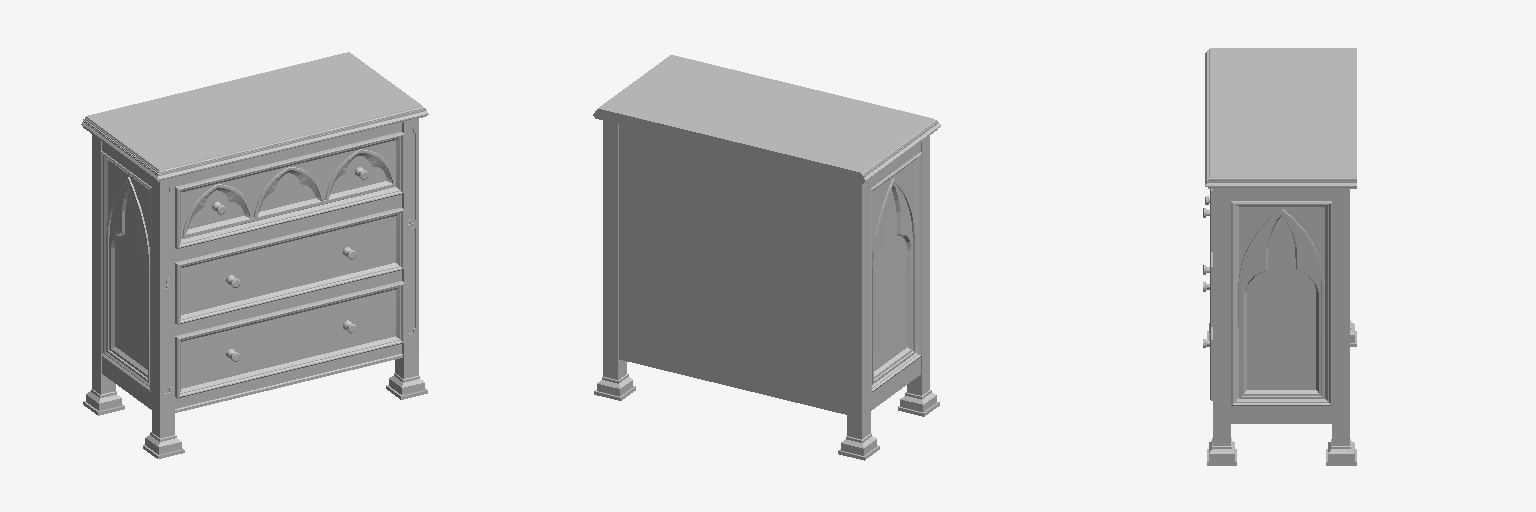
Rendered from GothicCommode_01.obj.
3 views of the same model, side by side, from view 1: azimuth 30°, elevation 25°; view 2: azimuth 150°, elevation 25°; view 3: azimuth 270°, elevation 25° (orthographic).
Parts seen in each view (by area): view 1: GothicCommode_01_Circle.003, gotchi_commode_box3_Circle.005, gotchi_commode_box2_Circle.006, gotchi_commode_box1_Circle.007; view 2: GothicCommode_01_Circle.003; view 3: GothicCommode_01_Circle.003.
Boxes of the visible parts, box(x1,y1,x2,y2) form: GothicCommode_01_Circle.003: box(81, 52, 428, 458); gotchi_commode_box3_Circle.005: box(175, 281, 403, 398); gotchi_commode_box2_Circle.006: box(175, 207, 403, 324); gotchi_commode_box1_Circle.007: box(175, 132, 403, 248); GothicCommode_01_Circle.003: box(593, 55, 940, 460); GothicCommode_01_Circle.003: box(1205, 48, 1356, 465).
Bounding box in the file's own units: 1.2 × 1.21 × 0.5903.